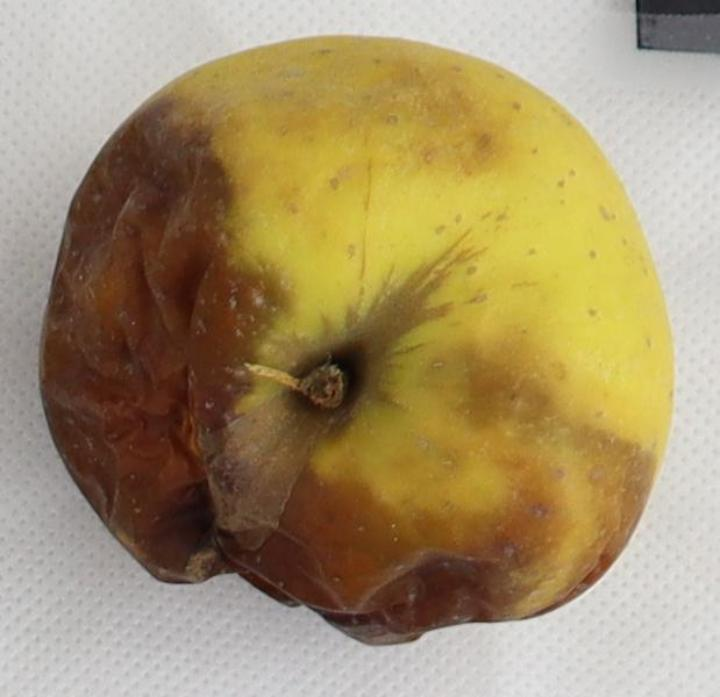apple: (41, 36, 672, 643)
rot_mold_decay: (41, 101, 549, 644)
